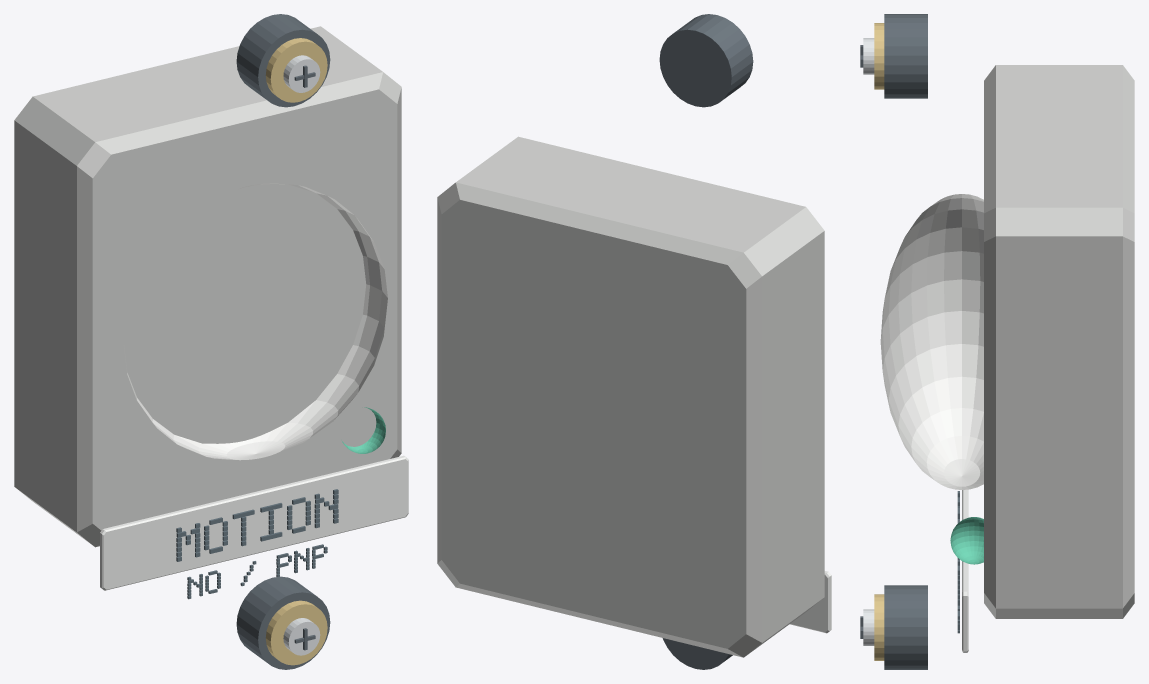
The model's file is motionSensor.glb.
3 renders of one model, left to right at view 1: azimuth 30°, elevation 25°; view 2: azimuth 150°, elevation 25°; view 3: azimuth 270°, elevation 25°, orthographic.
Parts seen in each view (by area): view 1: motionSensor-detailed; view 2: motionSensor-detailed; view 3: motionSensor-detailed.
Boxes of the visible parts, x1,y1,x2,y2 form: motionSensor-detailed: [14, 14, 408, 669]; motionSensor-detailed: [437, 14, 831, 669]; motionSensor-detailed: [860, 14, 1134, 669].
Bounding box in the file's own units: 1.41 × 2.65 × 1.02.
